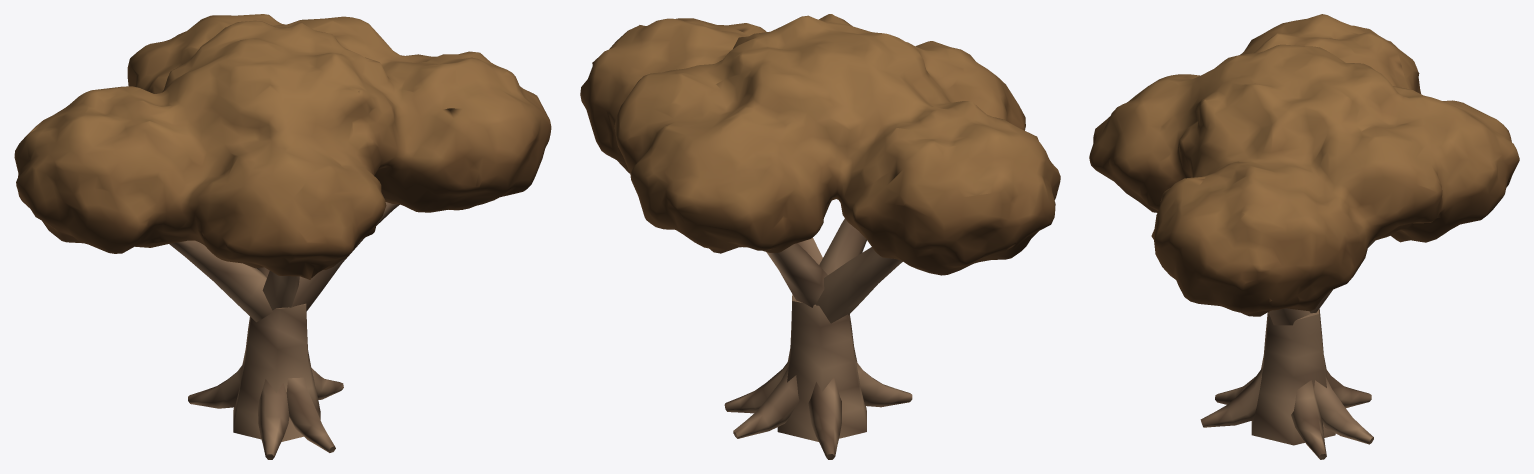
File: SM_StylizedAutumnTree2.fbx
3 views of the same model, side by side, from view 1: azimuth 30°, elevation 25°; view 2: azimuth 150°, elevation 25°; view 3: azimuth 270°, elevation 25° (orthographic). The views are drawn at different scales.
Parts seen in each view (by area): view 1: SM_StylizedAutumnTree2; view 2: SM_StylizedAutumnTree2; view 3: SM_StylizedAutumnTree2.
Part boxes in pixels (x1,y1,x2,y2): SM_StylizedAutumnTree2: (14, 14, 551, 459); SM_StylizedAutumnTree2: (580, 14, 1060, 459); SM_StylizedAutumnTree2: (1089, 14, 1519, 459).
Size of what is drawn, in the model's own units: 7.66 by 5.73 by 6.21.
